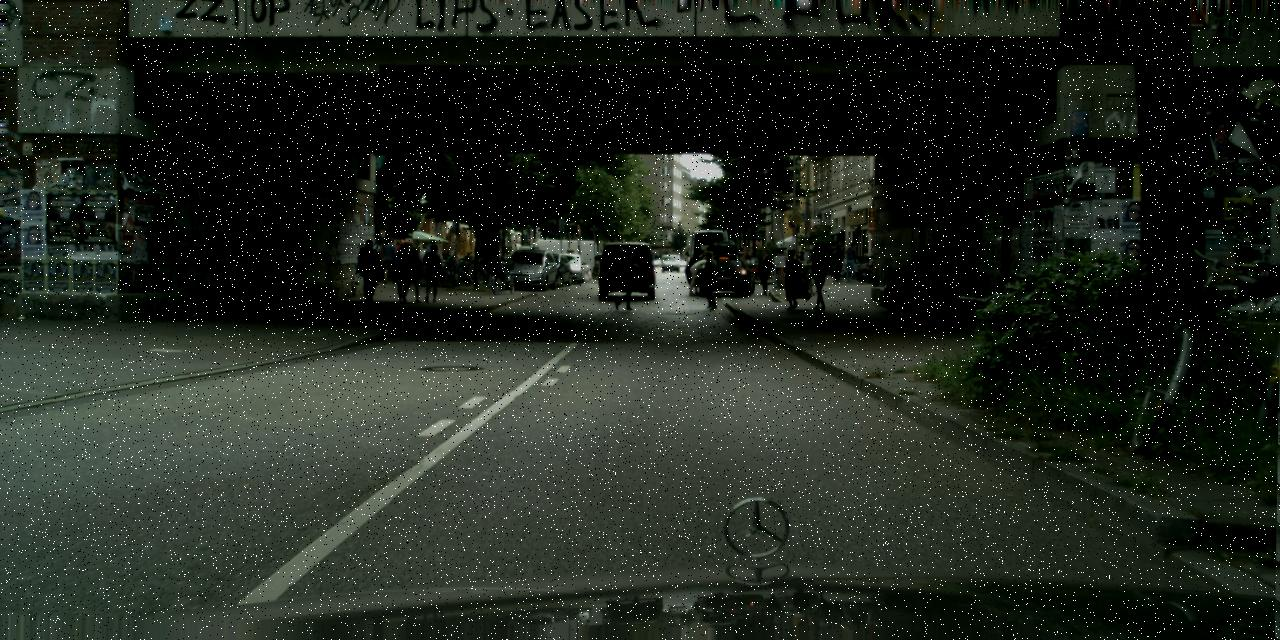ped: (806, 247, 832, 310), (356, 239, 382, 301), (612, 250, 637, 309), (697, 250, 721, 309), (780, 249, 804, 308), (420, 244, 443, 302), (391, 246, 413, 302), (401, 247, 423, 302), (754, 247, 774, 294), (423, 238, 442, 284), (366, 238, 384, 284), (382, 237, 399, 282), (692, 256, 708, 296), (832, 243, 847, 280), (418, 246, 430, 278), (396, 242, 412, 255), (798, 250, 806, 270), (465, 252, 472, 269), (452, 250, 458, 268), (444, 250, 450, 267)
